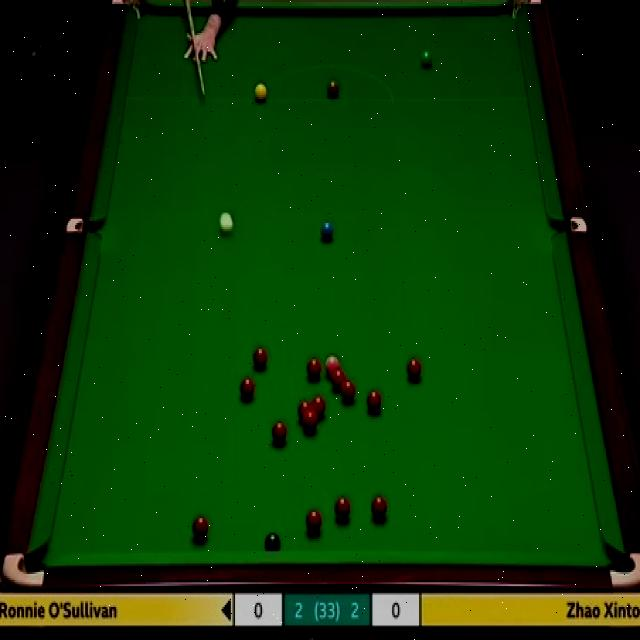black-ball: (266, 532, 284, 551)
blue-ball: (320, 222, 334, 239)
brown-ball: (327, 80, 340, 103)
green-ball: (422, 50, 432, 65)
pink-ball: (325, 355, 340, 375)
red-ball: (310, 395, 328, 422), (305, 509, 323, 535), (191, 515, 209, 540), (335, 493, 350, 522), (274, 420, 291, 444), (339, 379, 356, 403), (406, 355, 422, 380), (372, 496, 388, 520), (253, 345, 268, 369), (240, 379, 256, 400), (303, 412, 318, 434), (366, 392, 382, 410), (306, 358, 320, 378), (331, 368, 345, 388), (298, 402, 312, 421)
white-ball: (218, 214, 235, 236)
yellow-ball: (255, 82, 267, 104)
